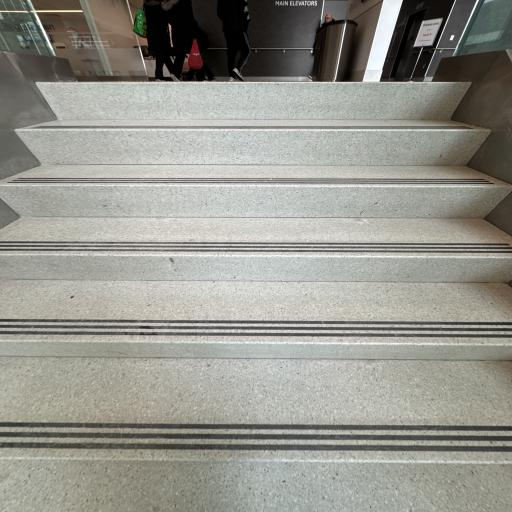Stairs: (0, 82, 512, 512), (0, 357, 512, 512), (0, 280, 512, 360), (0, 217, 512, 282), (0, 164, 512, 218), (16, 119, 490, 165)
